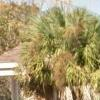Palm tree: (20, 7, 94, 96)
